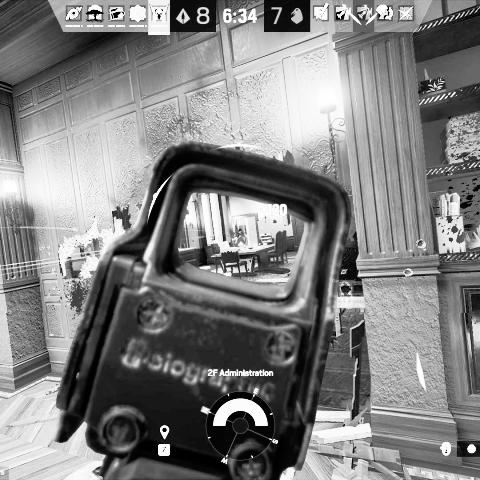Character: (233, 228, 246, 238)
Friend_label: (332, 268, 356, 284)
Head: (236, 228, 243, 235)
